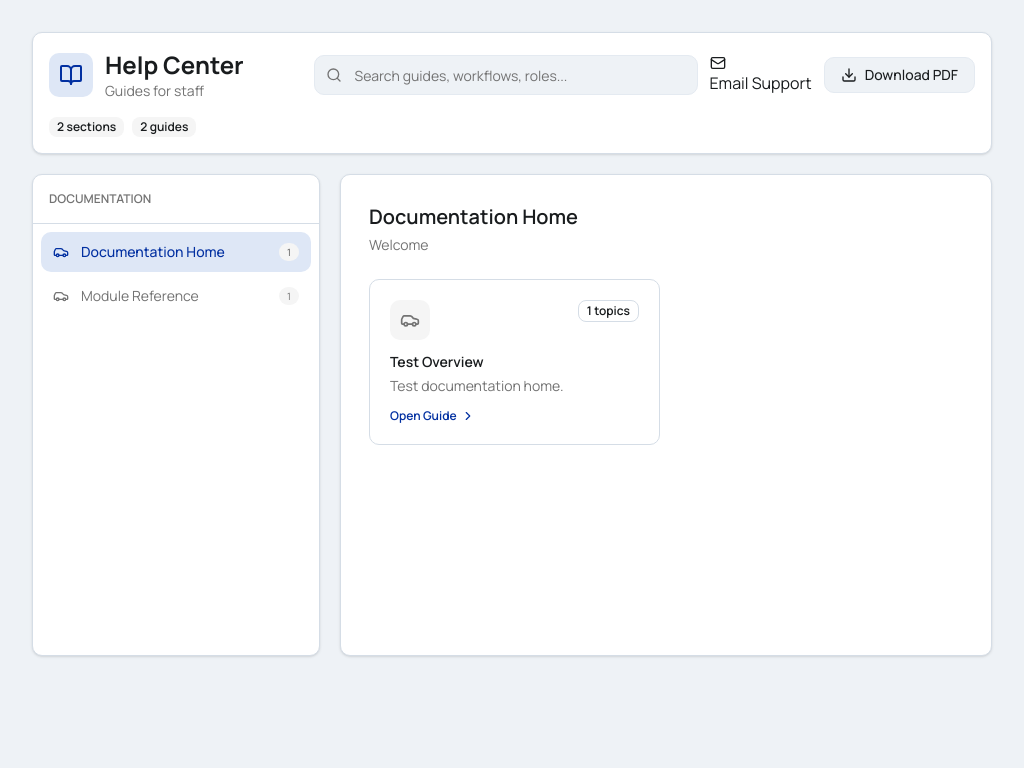
Test: HelpCenter › opens a guide and renders formatted steps
What coordinates should you click on to do the following:
click the button "Module Reference 1"
I would click on:
 (176, 296)
Its box is [41, 276, 311, 316].
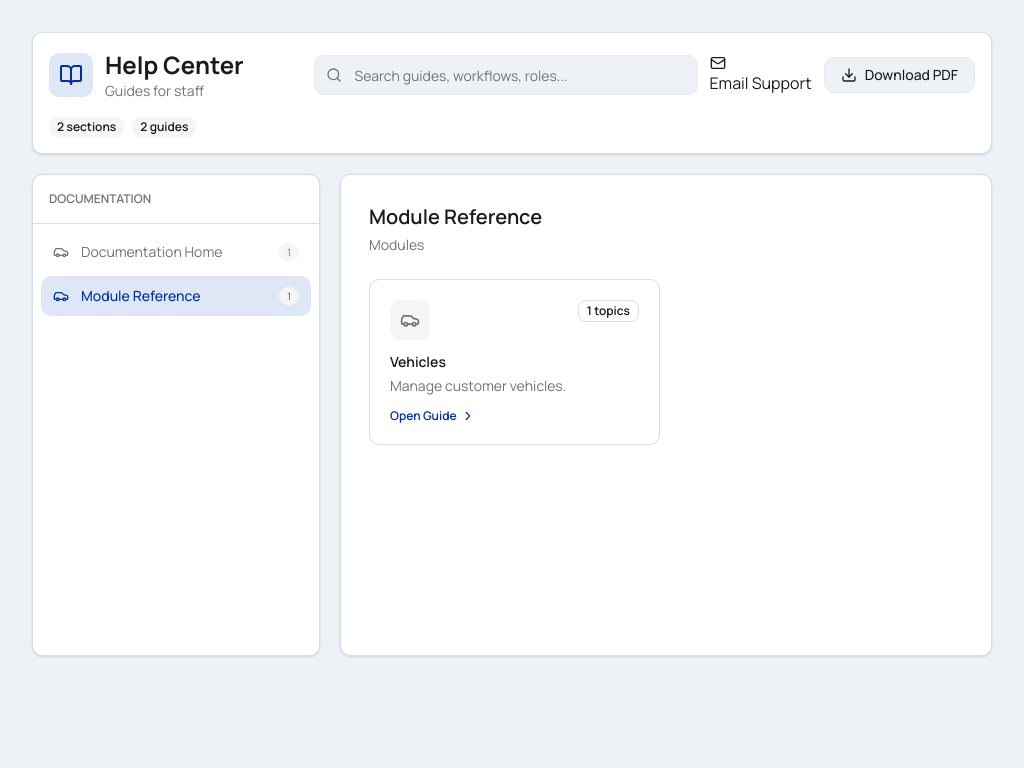
What coordinates should you click on to do the following:
click the text "Open Guide"
I would click on:
 (432, 416)
Its box is [390, 407, 475, 424].
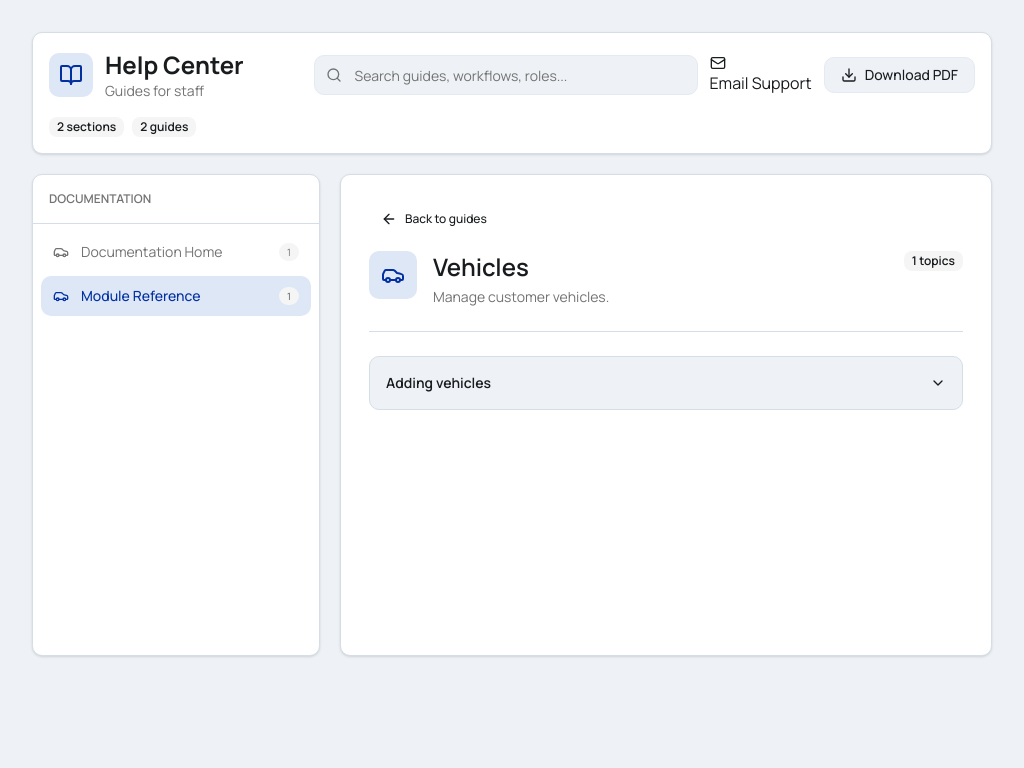
What coordinates should you click on to do the following:
click the button "Adding vehicles"
I would click on:
 (439, 382)
Its box is [386, 357, 946, 409].
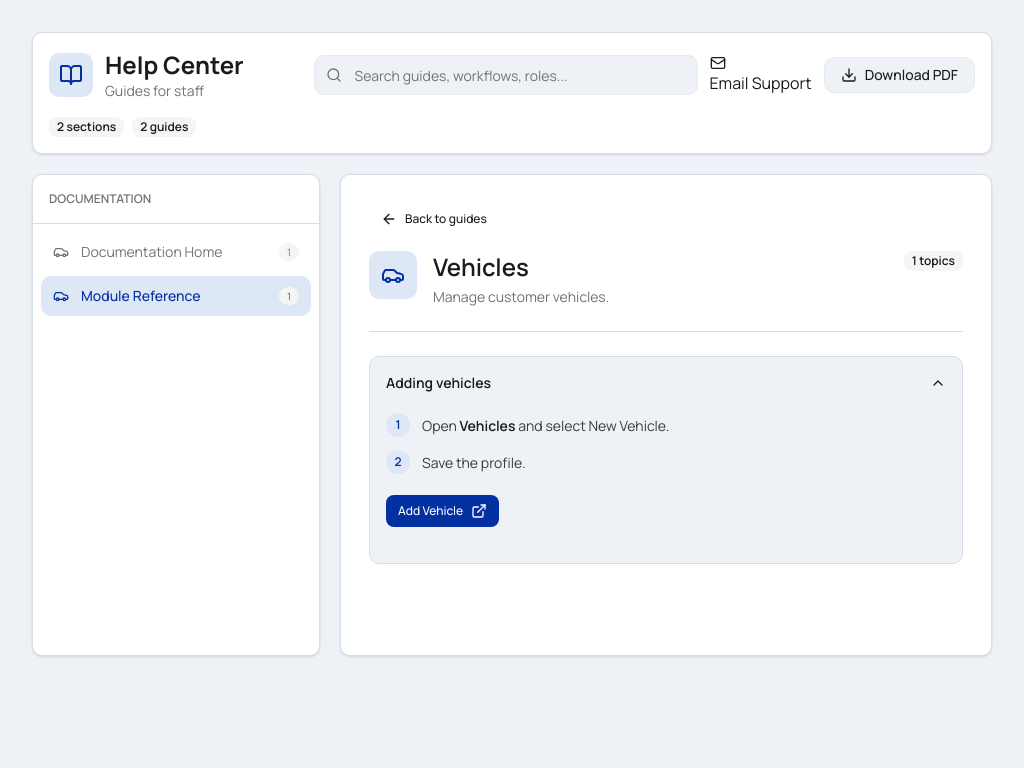
Expected: the text "Vehicles" is shown, [460, 416, 515, 435]
Expected: the button "Add Vehicle" is shown, [386, 494, 499, 526]
